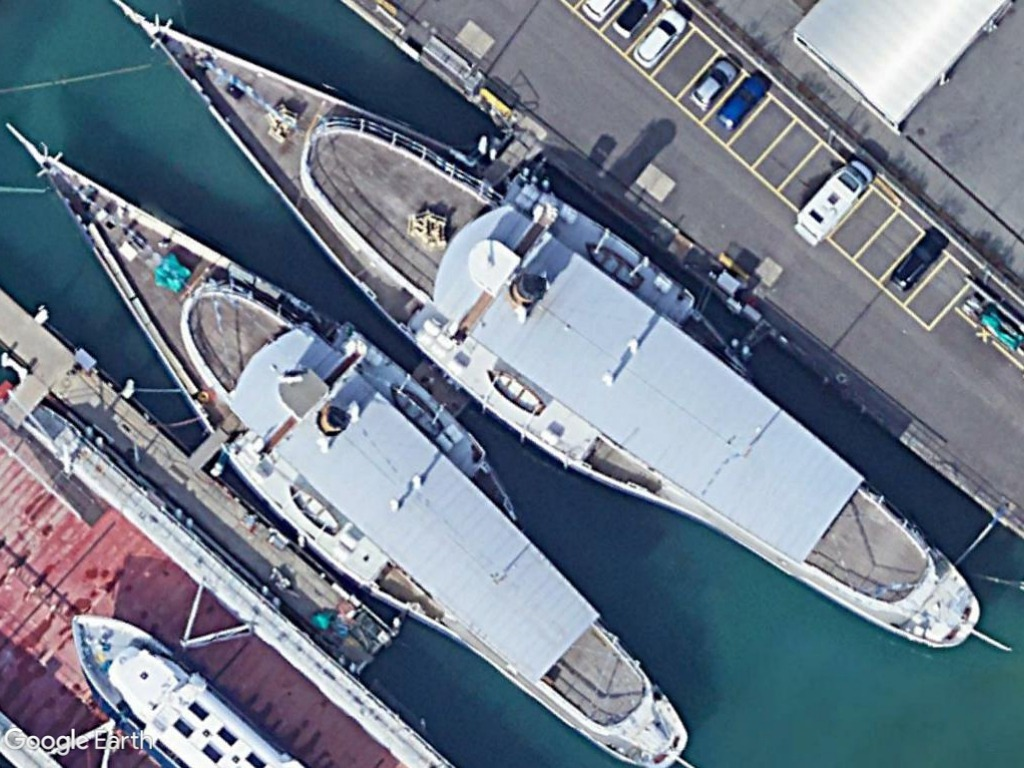boat: (131, 11, 981, 651), (20, 143, 696, 768)
car: (630, 10, 692, 69), (713, 75, 769, 133), (887, 242, 943, 294), (686, 61, 740, 112)
others: (794, 164, 874, 242)
